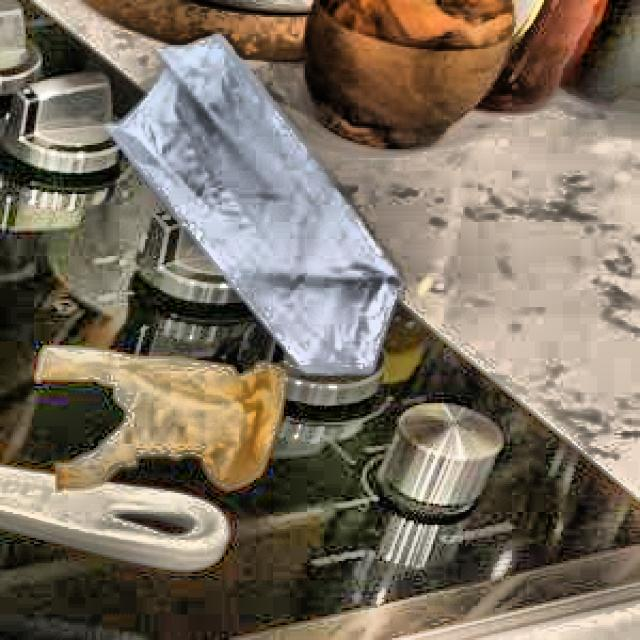Plastic: (114, 35, 418, 384), (32, 327, 299, 510)
